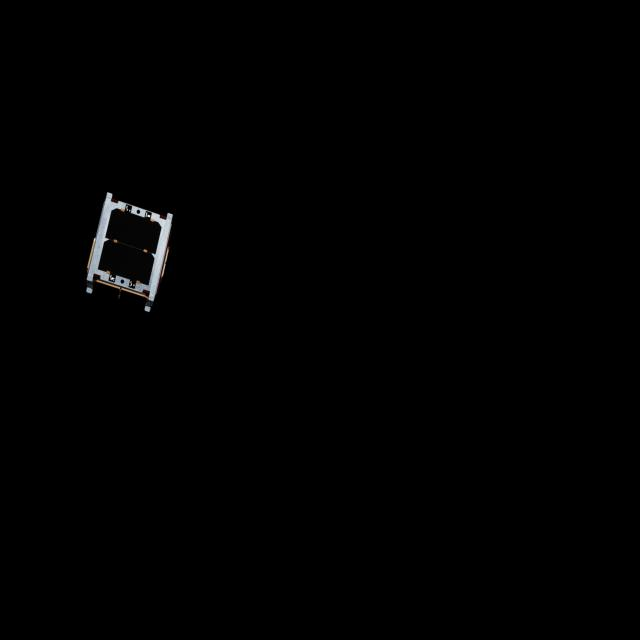satellite: (84, 188, 171, 316)
